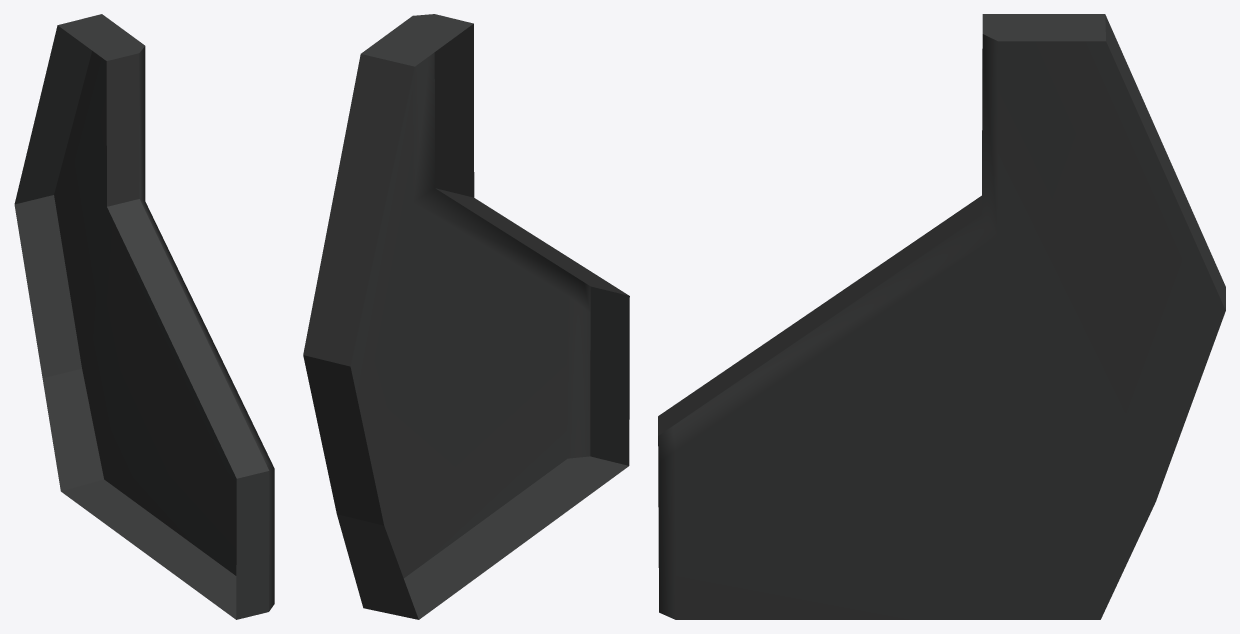
File: Makovec_Door_02_Lower_Half.fbx
3 views of the same model, side by side, from view 1: azimuth 30°, elevation 25°; view 2: azimuth 150°, elevation 25°; view 3: azimuth 270°, elevation 25° (orthographic). The views are drawn at different scales.
Parts seen in each view (by area): view 1: Lower_Half; view 2: Lower_Half; view 3: Lower_Half.
Part boxes in pixels (x1,y1,x2,y2): Lower_Half: [14, 14, 274, 619]; Lower_Half: [303, 14, 629, 619]; Lower_Half: [658, 14, 1225, 619].
Bounding box in the file's own units: 2.27 × 22.43 × 19.95.
1 material, 1 textured.
